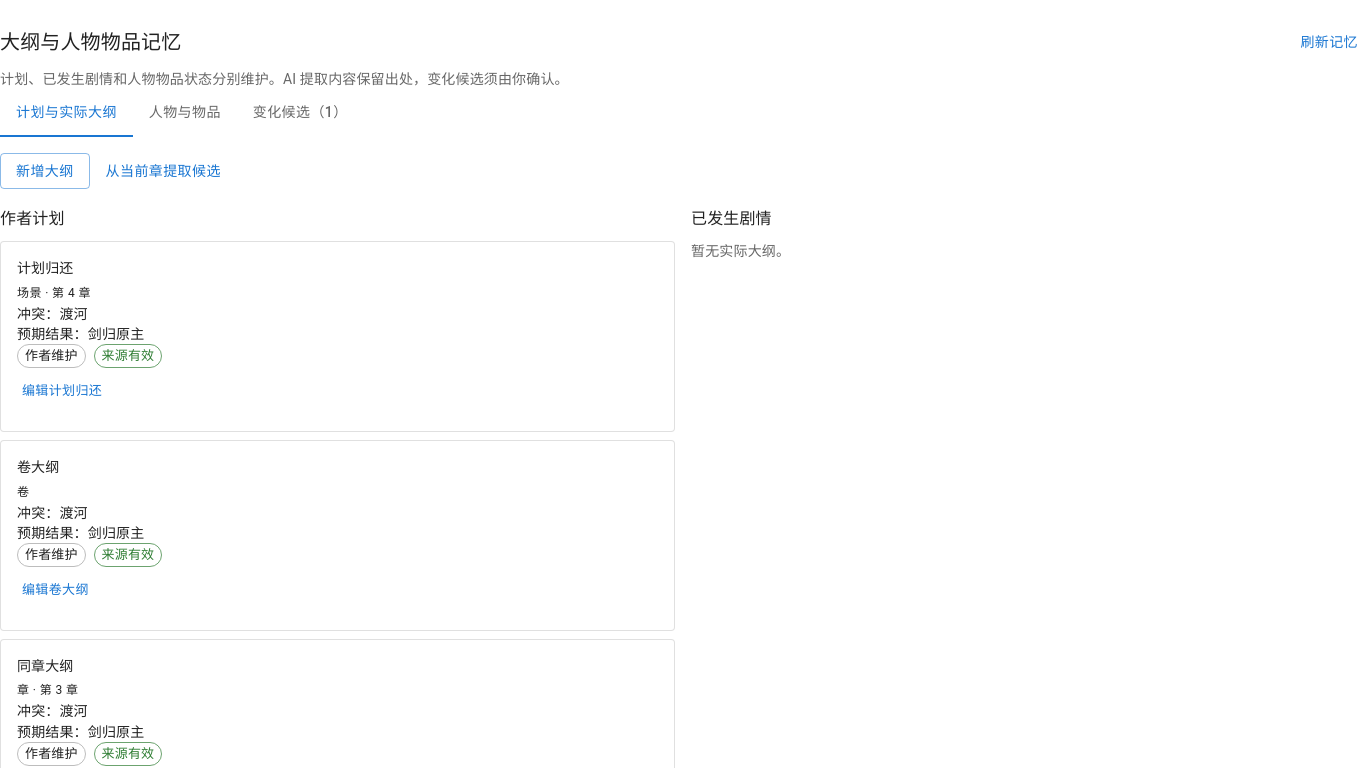
Test: 结构化记忆工作区 › 场景只能选择同章的章大纲作为上级
The width and height of the screenshot is (1366, 768).
Click the button "新增大纲": (45, 171) [0,152,90,189]
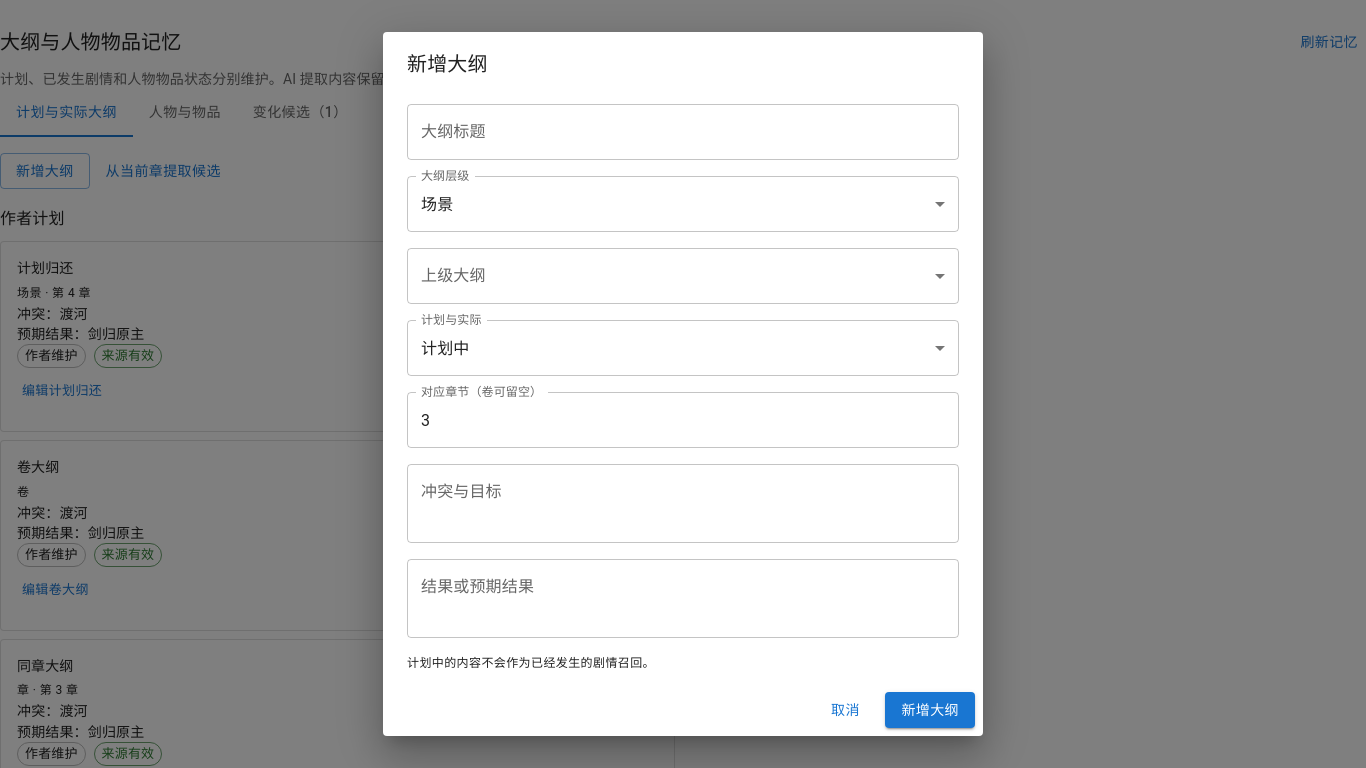
Press the mouse on the dropdown named "上级大纲": (683, 276) [407,248,959,304]
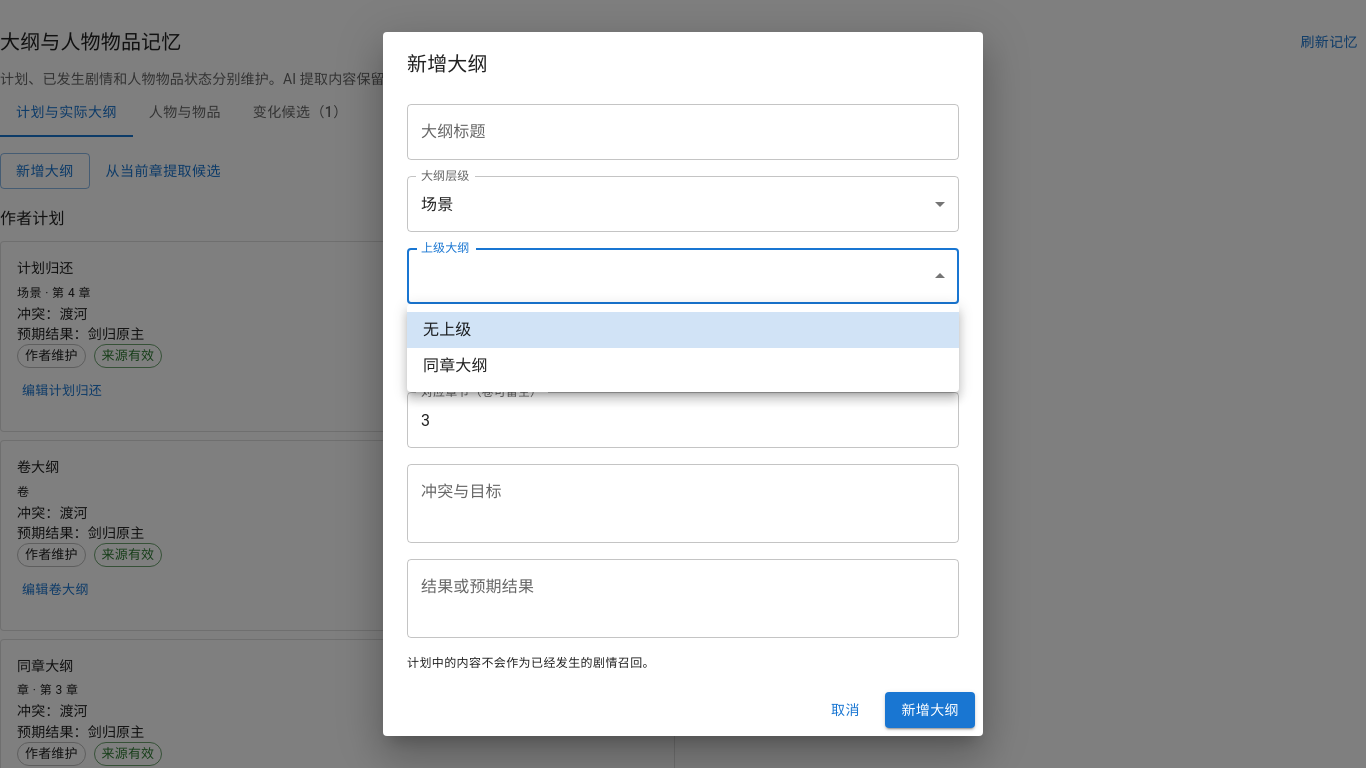
Result: the option "同章大纲" is shown at [423,356,488,375]
